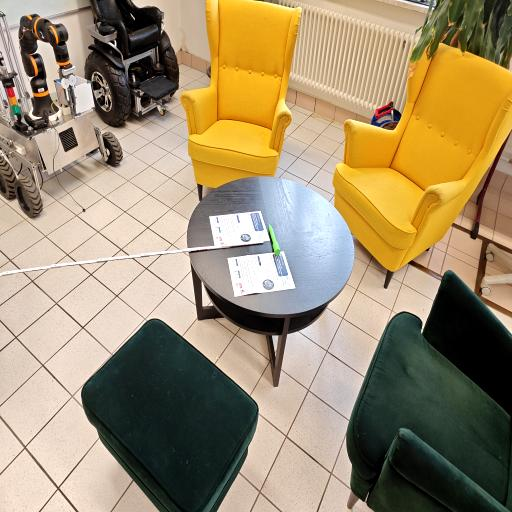Probe-Detection: (269, 224, 280, 255)
